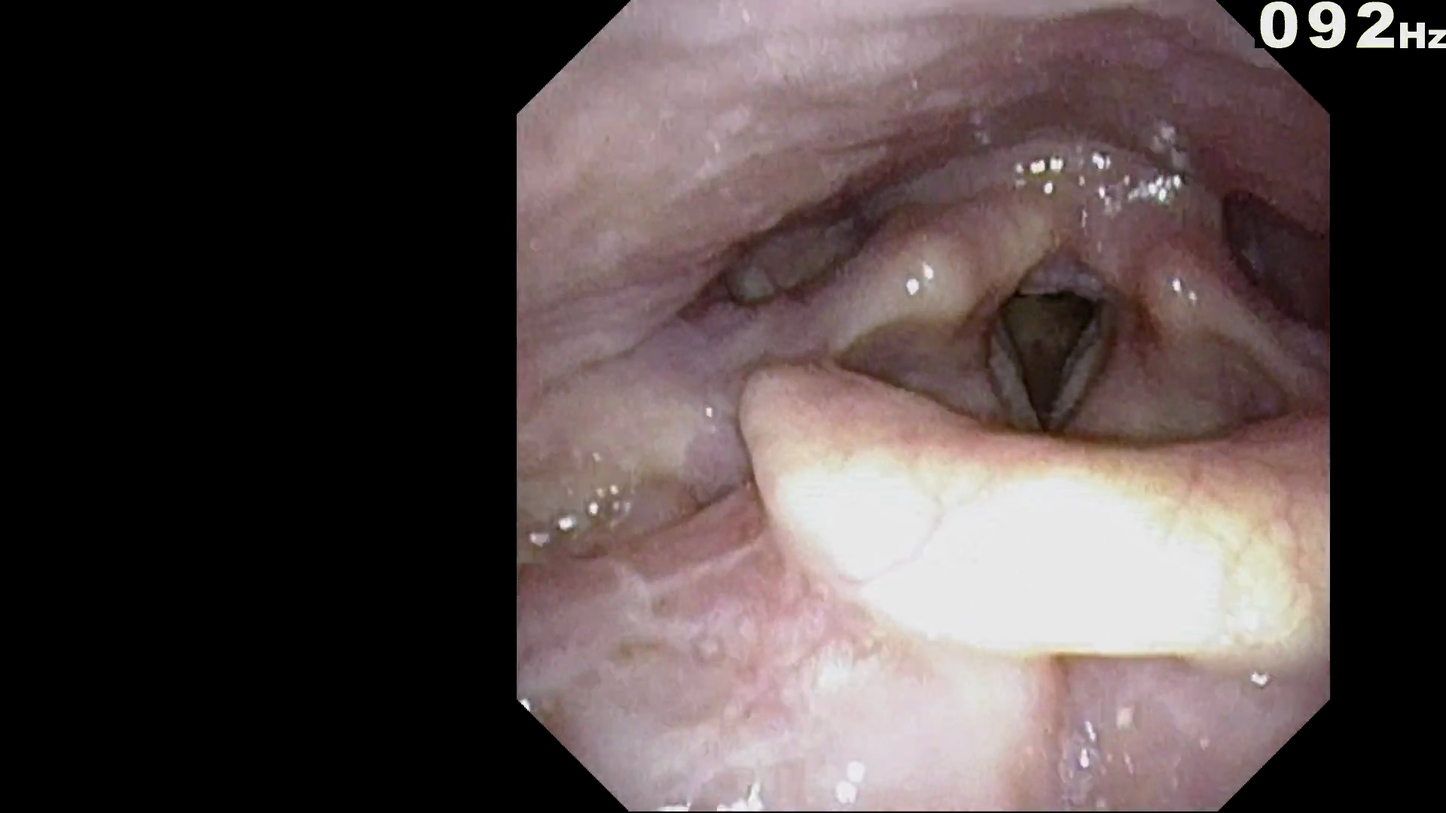epiglottis: (694, 346, 1323, 654)
trachea: (946, 255, 1126, 465)
